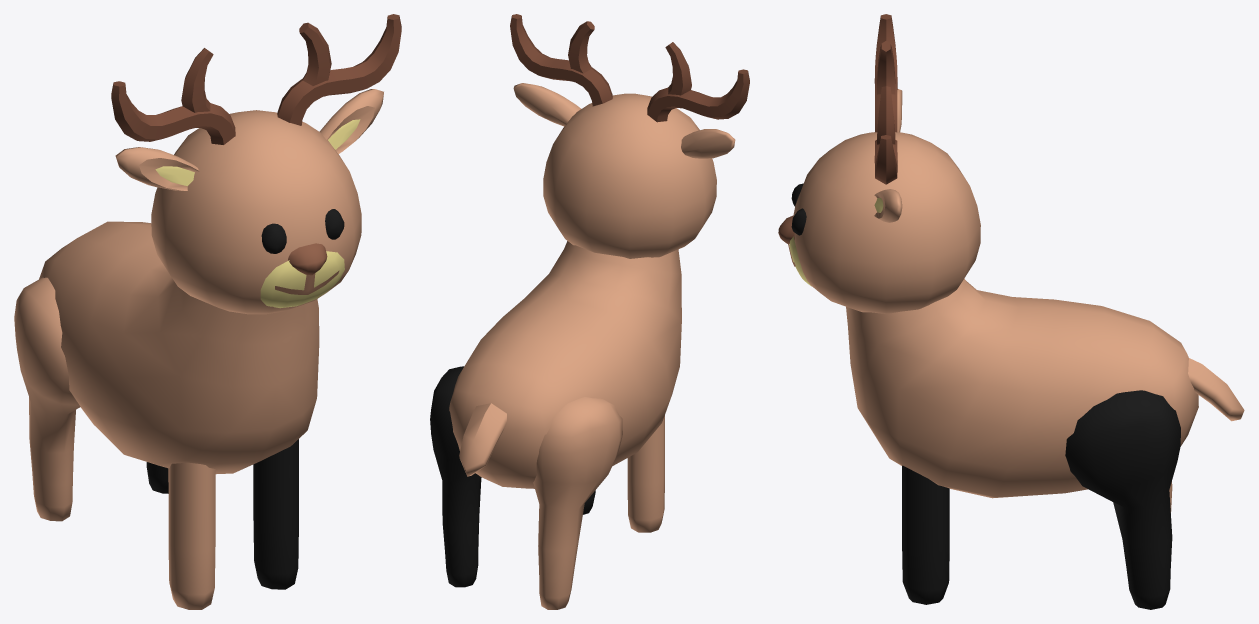
File: Deer.fbx
The picture shows the model from 3 angles, left to right: view 1: azimuth 30°, elevation 25°; view 2: azimuth 150°, elevation 25°; view 3: azimuth 270°, elevation 25°; orthographic projection. The views are drawn at different scales.
Visible parts, largest first — view 1: Deer; view 2: Deer; view 3: Deer.
Boxes of the visible parts, x1,y1,x2,y2 form: Deer: (14,14,401,609); Deer: (430,14,749,609); Deer: (778,14,1244,609).
Bounding box in the file's own units: 163 × 309 × 252.
